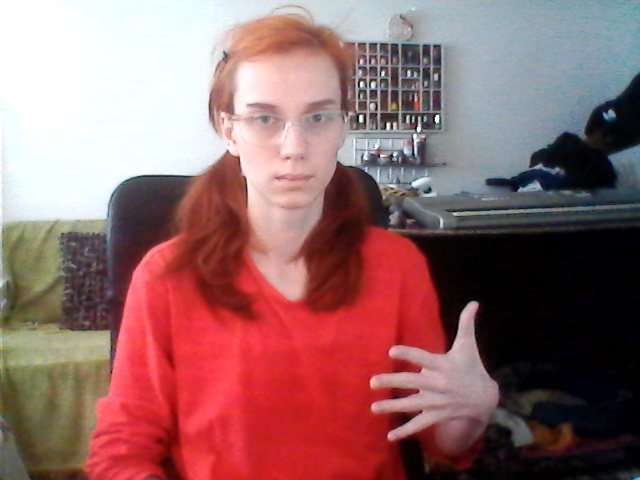pat: (366, 296, 506, 446)
